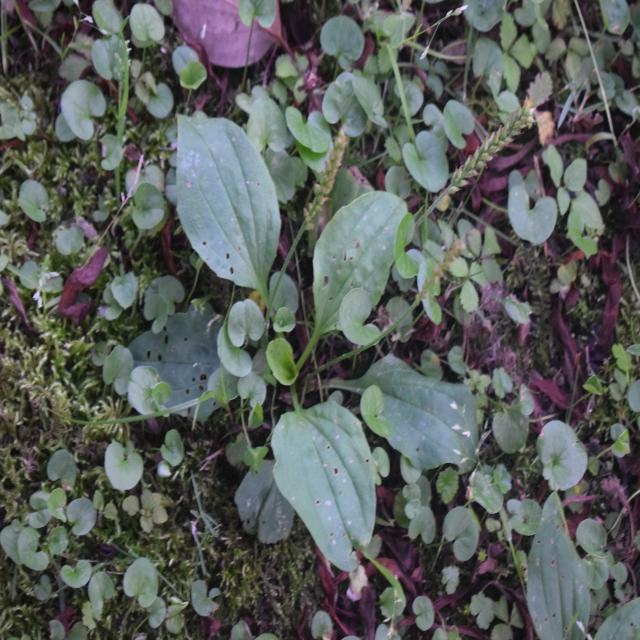plantain: (165, 106, 480, 562)
